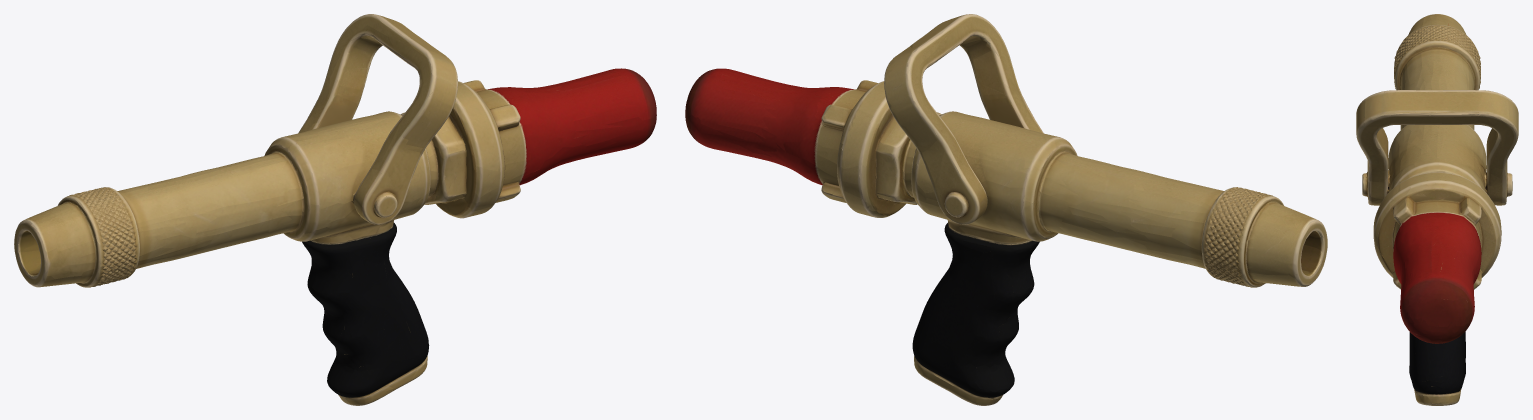
Rendered from lancia_a_pompiere.glb.
3 views of the same model, side by side, from view 1: azimuth 30°, elevation 25°; view 2: azimuth 150°, elevation 25°; view 3: azimuth 270°, elevation 25° (orthographic). The views are drawn at different scales.
Parts seen in each view (by area): view 1: Mesh_0; view 2: Mesh_0; view 3: Mesh_0.
Boxes of the visible parts, bbox=[...] form: Mesh_0: bbox=[14, 14, 656, 405]; Mesh_0: bbox=[685, 14, 1327, 405]; Mesh_0: bbox=[1356, 14, 1518, 405].
Size of the model in its own units: 1.9 by 1.05 by 0.471.
Materials: 1 (1 with a texture image).
